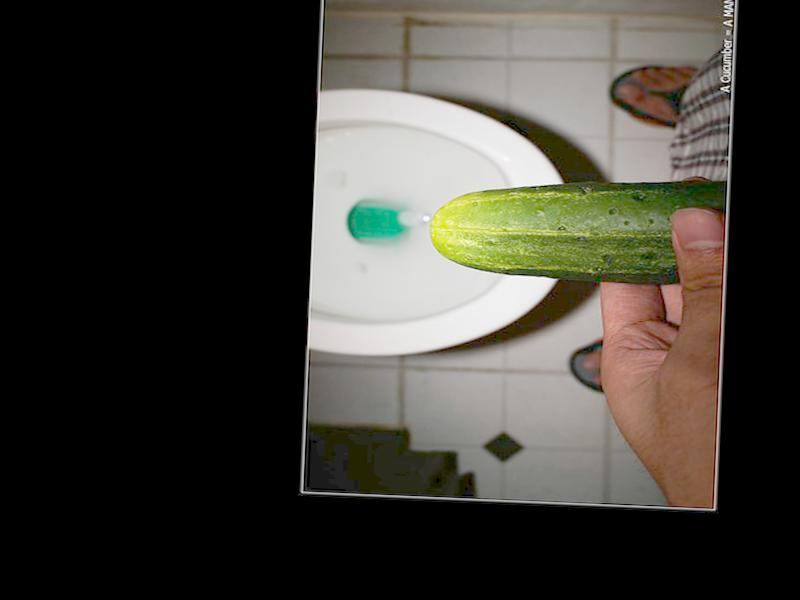Cucumber: (428, 169, 732, 286)
